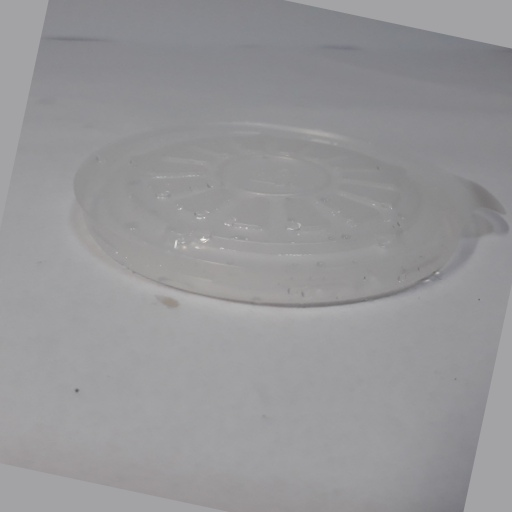Plastic_5: (65, 112, 505, 310)
